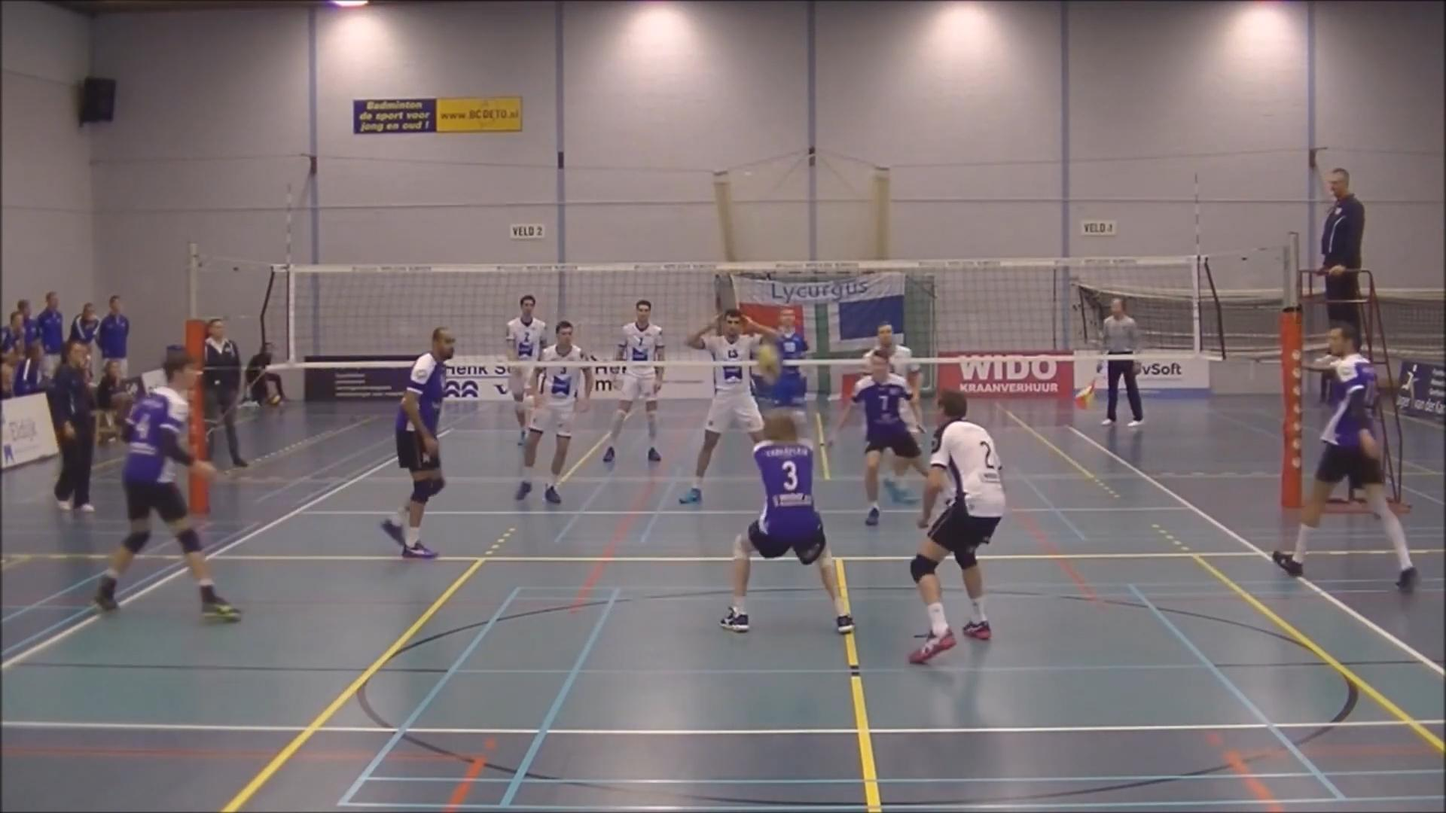Player: (93, 351, 239, 620), (1272, 324, 1417, 590), (908, 391, 1005, 663), (679, 309, 776, 503), (829, 352, 927, 525), (382, 327, 454, 558), (515, 321, 593, 504), (602, 299, 664, 463), (505, 294, 546, 444), (865, 324, 921, 433), (769, 309, 810, 433)
Receive: (708, 410, 846, 626)
